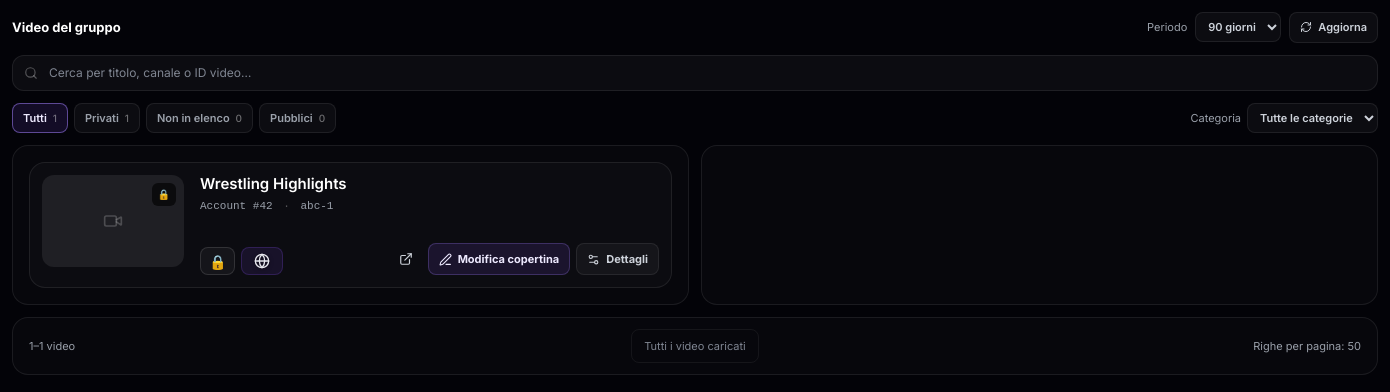
Test: GroupYouTubeVideos › shows a clear-filters empty state when search matches nothing
The image size is (1390, 392).
Expected: the text "Wrestling Highlights" is shown, [200, 174, 346, 193]
Type "inesistente" into the search field with test id "group-videos-search". click: {"x": 695, "y": 72}
box: [12, 54, 1378, 90]
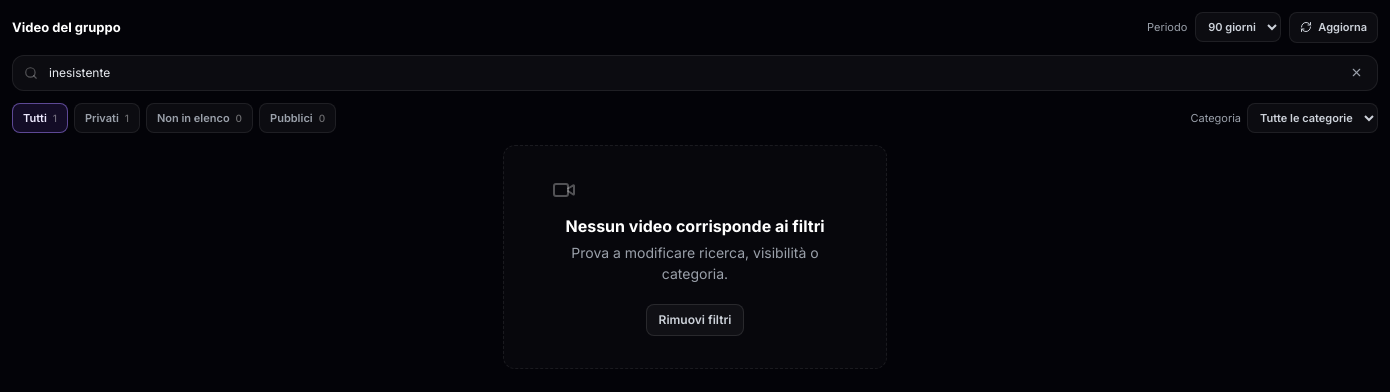
Expected: the heading "Nessun video corrisponde ai filtri" is shown, [552, 214, 838, 238]
Expected: the button with test id "group-videos-clear-filters" is shown
Click the button with test id "group-videos-clear-filters". click: {"x": 695, "y": 320}
box: [646, 304, 744, 336]
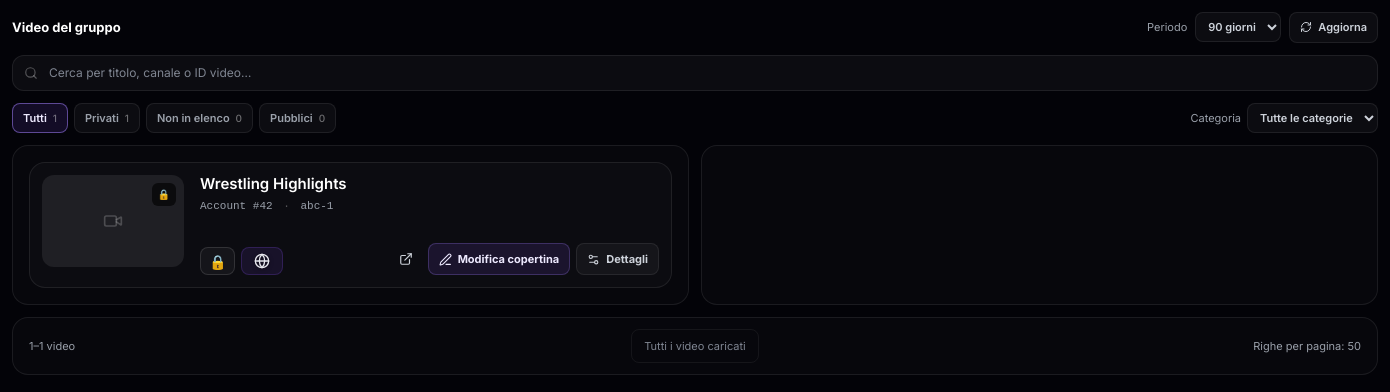
Expected: the text "Wrestling Highlights" is shown, [200, 174, 346, 193]
